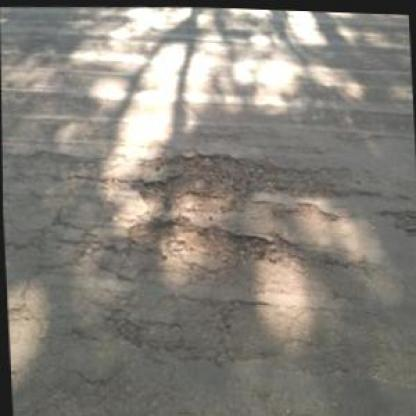pothole: (129, 146, 284, 218), (125, 210, 298, 274)
